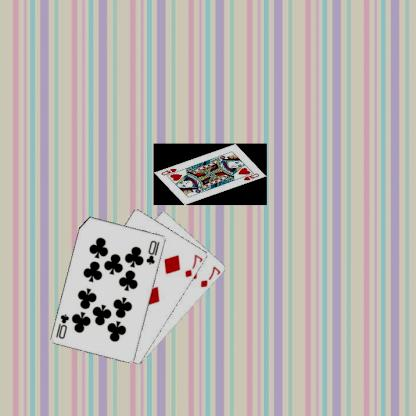10C: (55, 311, 72, 340), (146, 238, 163, 266)
7D: (200, 263, 223, 289), (184, 251, 205, 279)
